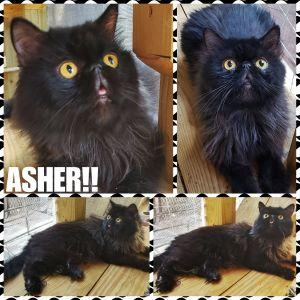persian: (192, 21, 294, 121)
